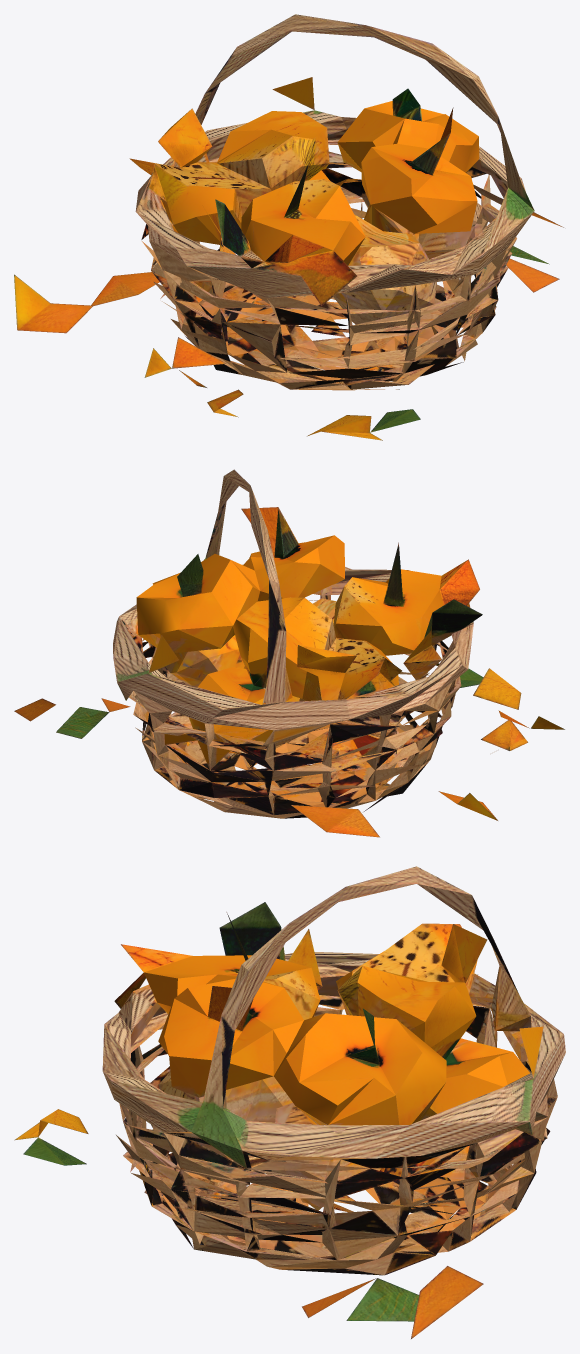
The picture shows the model from 3 angles, top to bottom: view 1: azimuth 30°, elevation 25°; view 2: azimuth 150°, elevation 25°; view 3: azimuth 270°, elevation 25°; orthographic projection. The views are drawn at different scales.
Bounding box in the file's own units: 1.89 × 1.01 × 1.45.
1 material, 1 textured.
